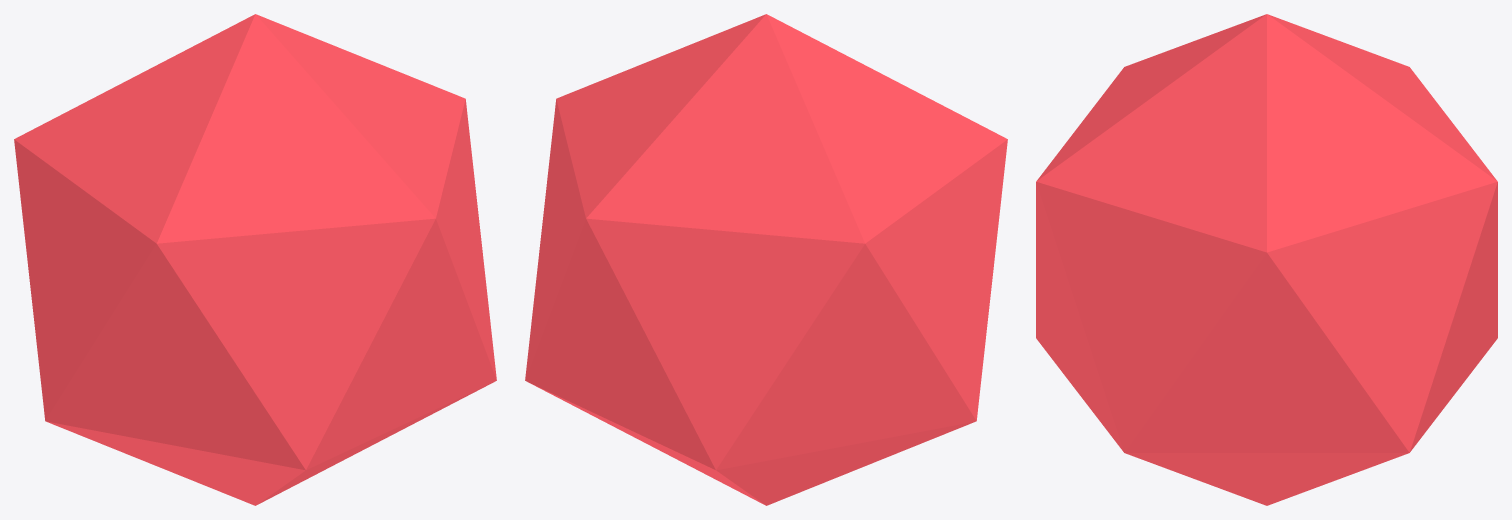
The model's file is Glowing_Stone_04.glb.
3 views of the same model, side by side, from view 1: azimuth 30°, elevation 25°; view 2: azimuth 150°, elevation 25°; view 3: azimuth 270°, elevation 25° (orthographic).
Parts seen in each view (by area): view 1: Glowing_Stone_04; view 2: Glowing_Stone_04; view 3: Glowing_Stone_04.
Part boxes in pixels (<box>): Glowing_Stone_04: <box>14,14,496,505</box>; Glowing_Stone_04: <box>525,14,1007,505</box>; Glowing_Stone_04: <box>1036,14,1497,505</box>.
Size of what is drawn, in the model's own units: 0.1944 by 0.2173 by 0.1849.
Materials: 1 (1 with a texture image).
